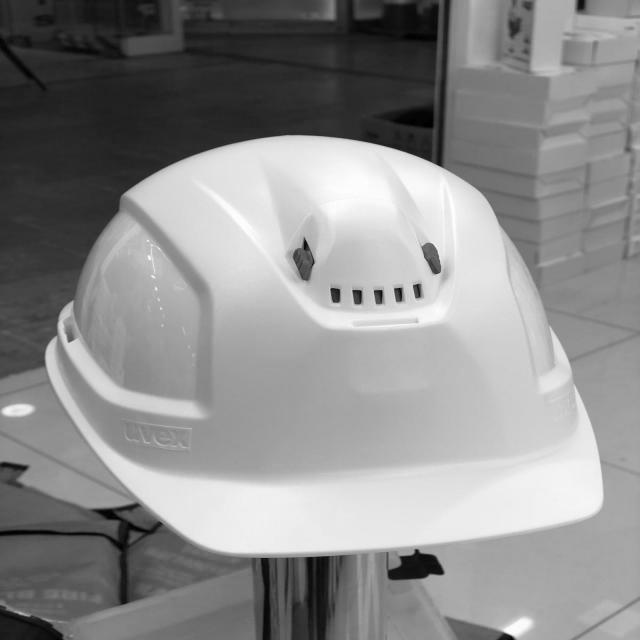construction helmet: (43, 136, 605, 561)
